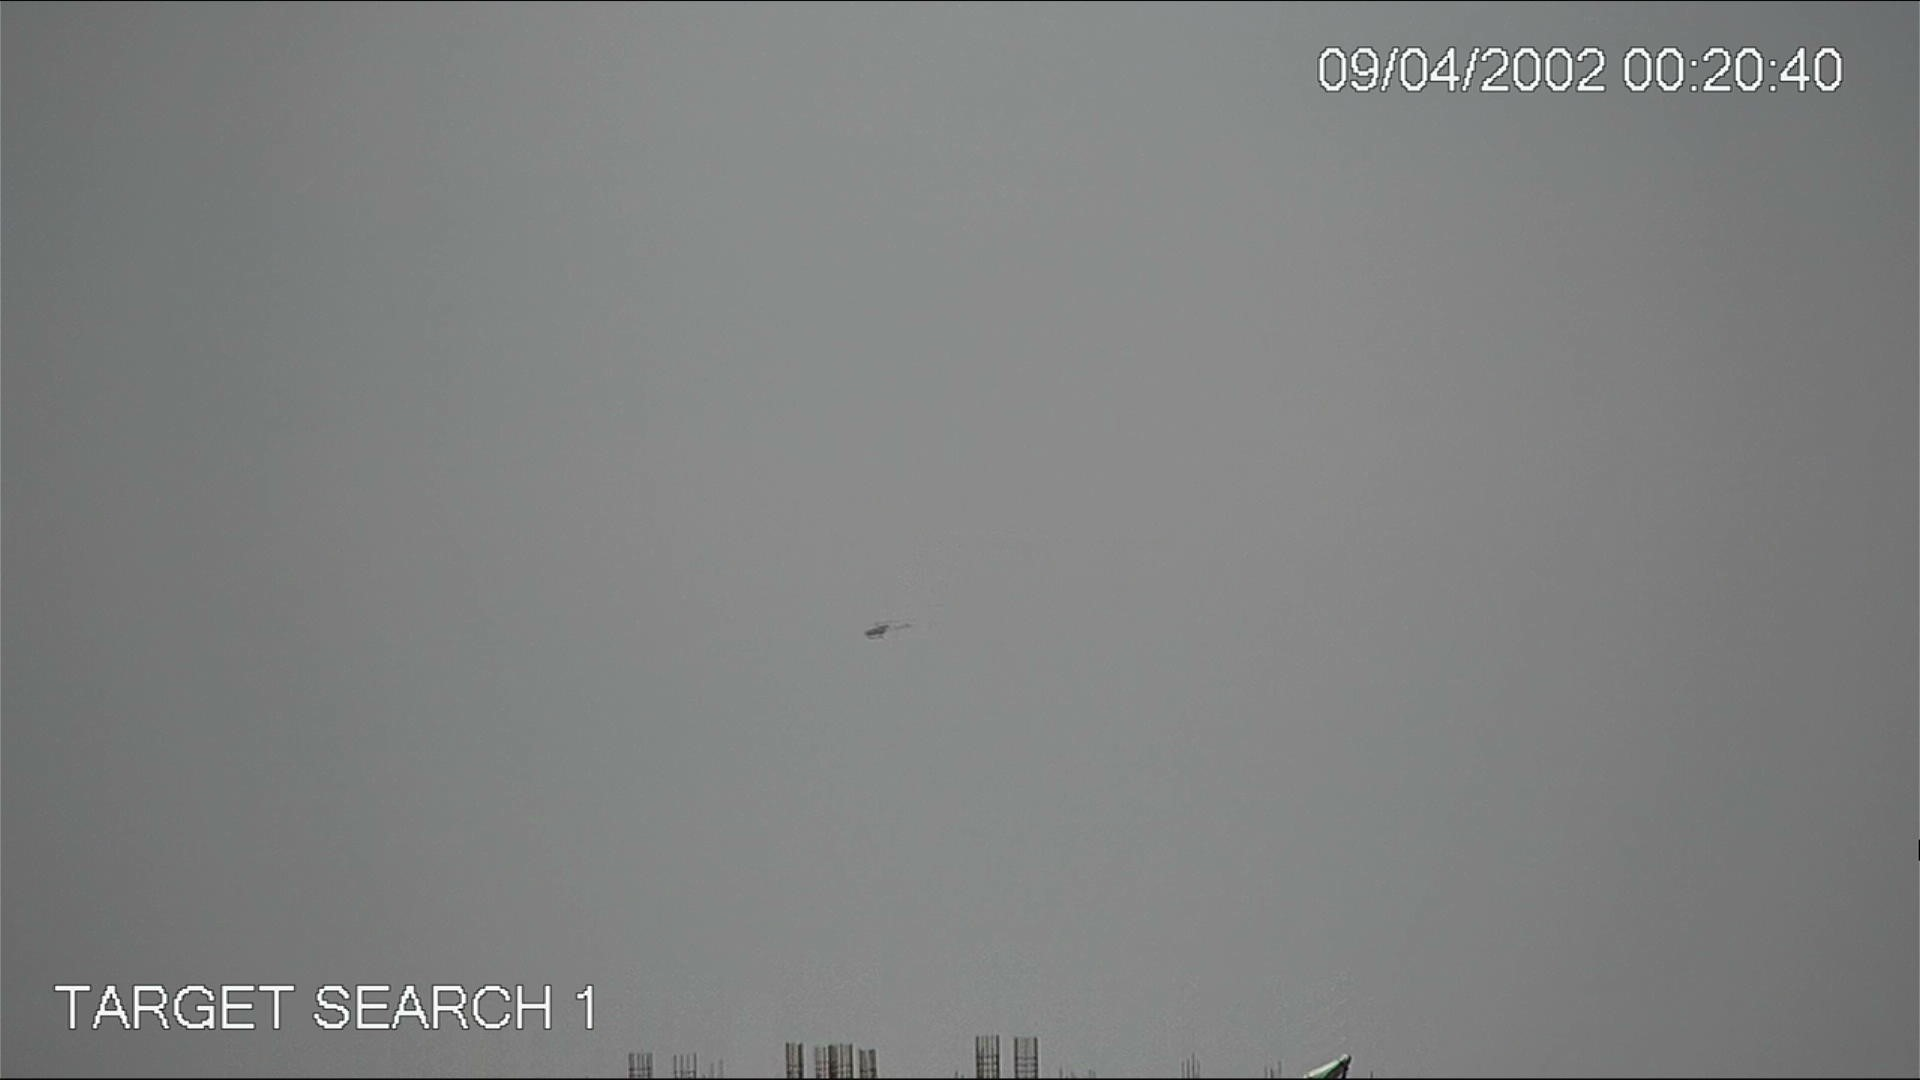SU_30: (864, 620, 893, 645)
